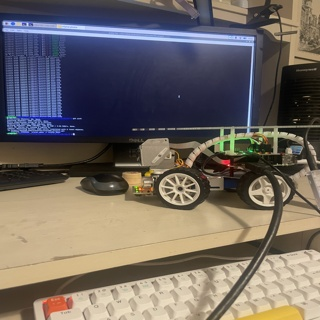vehicle: (129, 125, 319, 207)
